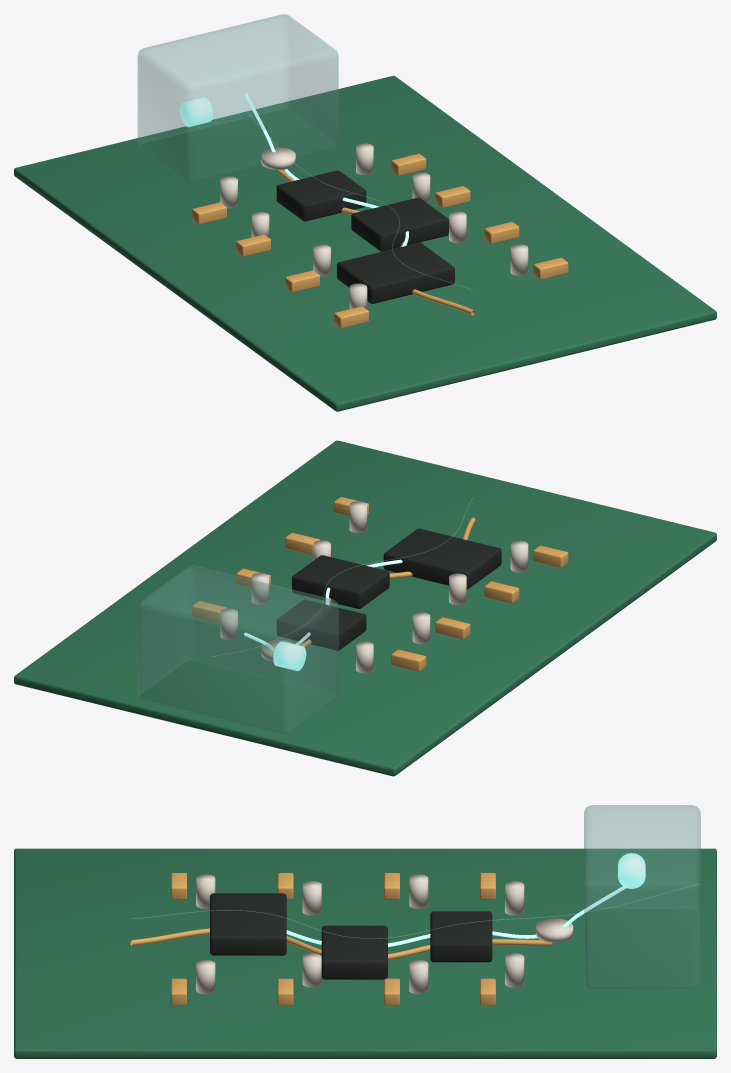
File: aerosense_04_hardware_v2.glb
3 renders of one model, top to bottom at view 1: azimuth 30°, elevation 25°; view 2: azimuth 150°, elevation 25°; view 3: azimuth 270°, elevation 25°, orthographic. The views are drawn at different scales.
Parts seen in each view (by area): view 1: PCB_BASE, OPTICAL_CHAMBER, MCU, ADC, TIA, LED_EXCITATION, PD; view 2: PCB_BASE, OPTICAL_CHAMBER, MCU, ADC, TIA, LED_EXCITATION, Res.002, Res, Res.004, Res.006, Cap.002, Cap.007 (+5 smaller); view 3: PCB_BASE, OPTICAL_CHAMBER, MCU, ADC, TIA, TRACE_MAIN, SIGNAL_PATH, LED_EXCITATION, PD, Cap.004, Cap.005, Cap.002 (+12 smaller).
Boxes of the visible parts, x1=… form: PCB_BASE: x1=14, y1=75, x2=716, y2=411; OPTICAL_CHAMBER: x1=138, y1=14, x2=338, y2=182; MCU: x1=337, y1=242, x2=454, y2=303; ADC: x1=351, y1=197, x2=448, y2=251; TIA: x1=276, y1=170, x2=366, y2=221; LED_EXCITATION: x1=180, y1=97, x2=212, y2=127; PD: x1=261, y1=147, x2=295, y2=169; PCB_BASE: x1=14, y1=440, x2=716, y2=776; OPTICAL_CHAMBER: x1=138, y1=565, x2=338, y2=733; MCU: x1=383, y1=528, x2=501, y2=589; ADC: x1=292, y1=555, x2=389, y2=608; TIA: x1=276, y1=599, x2=366, y2=650; LED_EXCITATION: x1=273, y1=641, x2=306, y2=670; Res.002: x1=435, y1=617, x2=470, y2=639; Res: x1=391, y1=649, x2=426, y2=671; Res.004: x1=484, y1=581, x2=519, y2=603; Res.006: x1=533, y1=545, x2=568, y2=567; Cap.002: x1=412, y1=612, x2=430, y2=644; Cap.007: x1=349, y1=501, x2=367, y2=533; PCB_BASE: x1=14, y1=848, x2=716, y2=1058; OPTICAL_CHAMBER: x1=584, y1=805, x2=700, y2=988; MCU: x1=210, y1=893, x2=286, y2=955; ADC: x1=321, y1=925, x2=387, y2=979; TIA: x1=430, y1=911, x2=492, y2=962; TRACE_MAIN: x1=130, y1=928, x2=551, y2=959; SIGNAL_PATH: x1=286, y1=884, x2=627, y2=947; LED_EXCITATION: x1=618, y1=853, x2=645, y2=888; PD: x1=536, y1=918, x2=573, y2=942; Cap.004: x1=302, y1=881, x2=321, y2=915; Cap.005: x1=302, y1=953, x2=321, y2=987; Cap.002: x1=409, y1=874, x2=428, y2=908.
Size of the model in its own units: 9 by 2.4 by 13.2.
